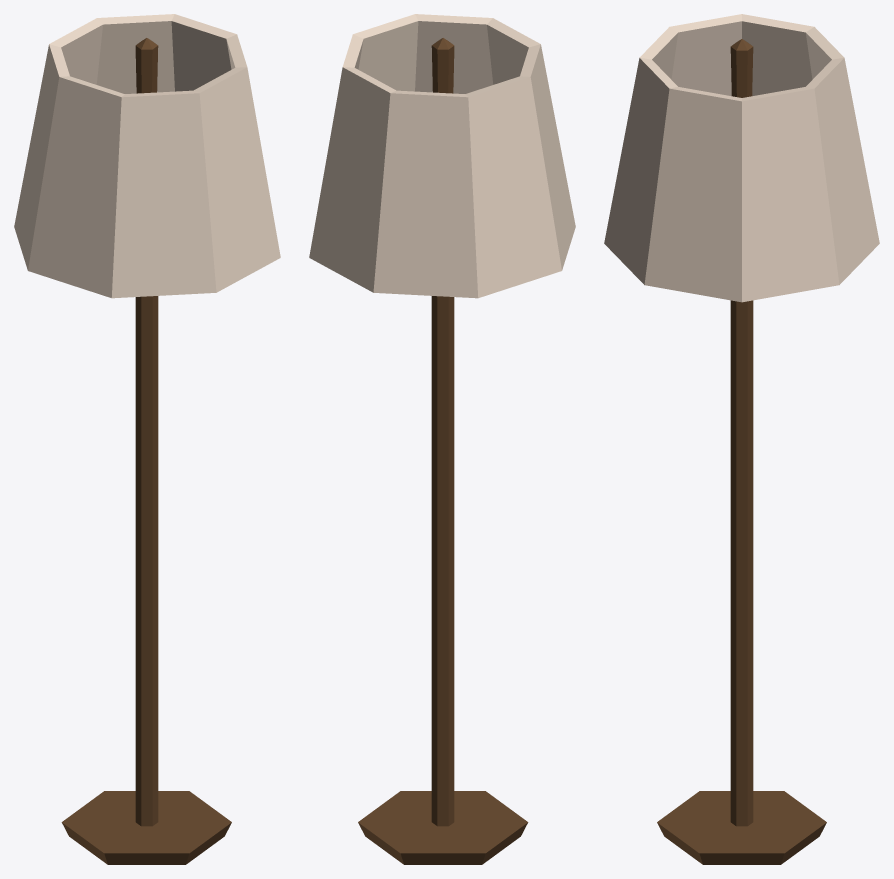
The model's file is furniture_lamp.fbx.
The picture shows the model from 3 angles, left to right: view 1: azimuth 30°, elevation 25°; view 2: azimuth 150°, elevation 25°; view 3: azimuth 270°, elevation 25°; orthographic projection.
Visible parts, largest first — view 1: furniture_lamp; view 2: furniture_lamp; view 3: furniture_lamp.
Part boxes in pixels (bbox=[...]): furniture_lamp: bbox=[14, 14, 280, 864]; furniture_lamp: bbox=[309, 14, 575, 864]; furniture_lamp: bbox=[604, 14, 879, 864].
Size of the model in its own units: 62.65 by 200 by 62.65.
